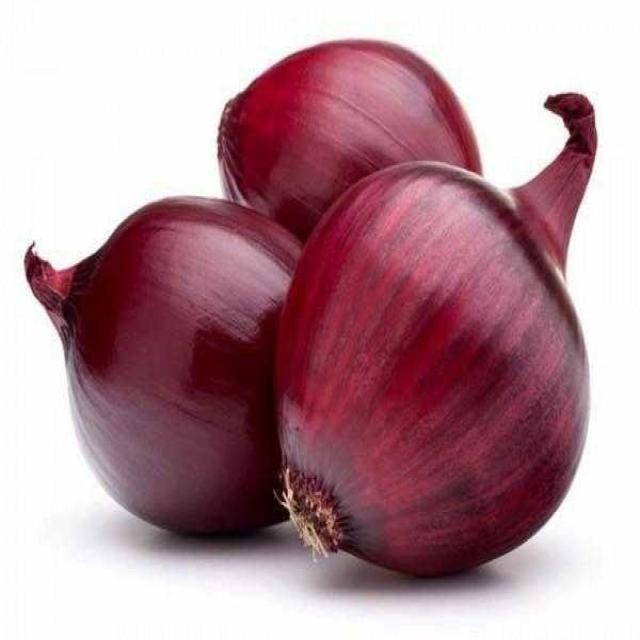onion: (274, 92, 599, 580), (24, 195, 307, 539), (217, 39, 484, 238)
